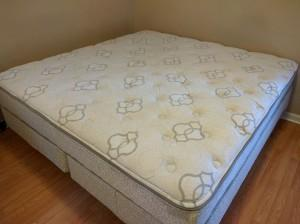Bed-Mattress: (0, 30, 298, 224)
